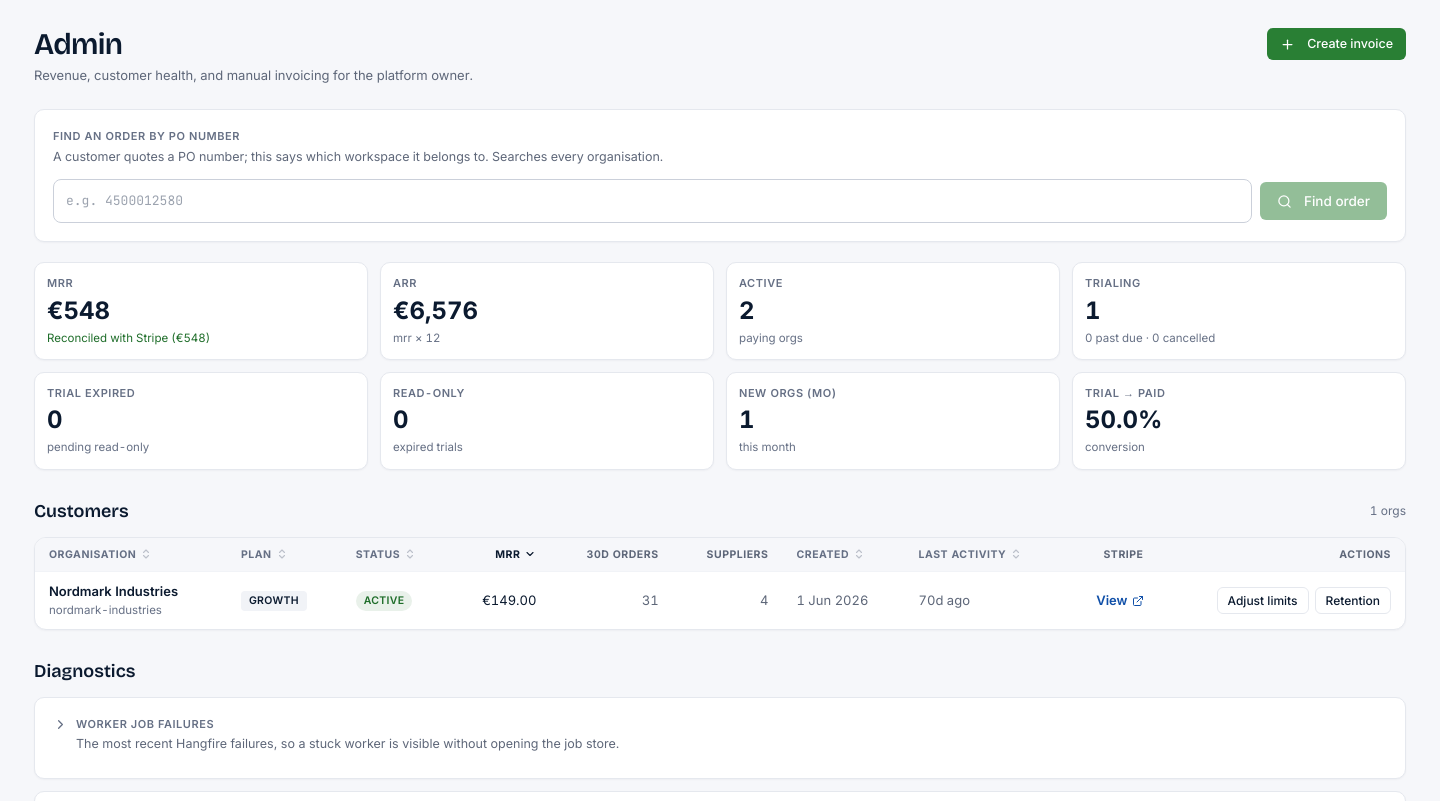
admin — a lookup result names the owning workspace › shows the org, order id, status and supplier for a match
Expected: the heading "Customers" is shown, [34,498,129,525]
Type "4500012580" into the search field named "po number". click: (652, 201)
box: [53,179,1252,223]
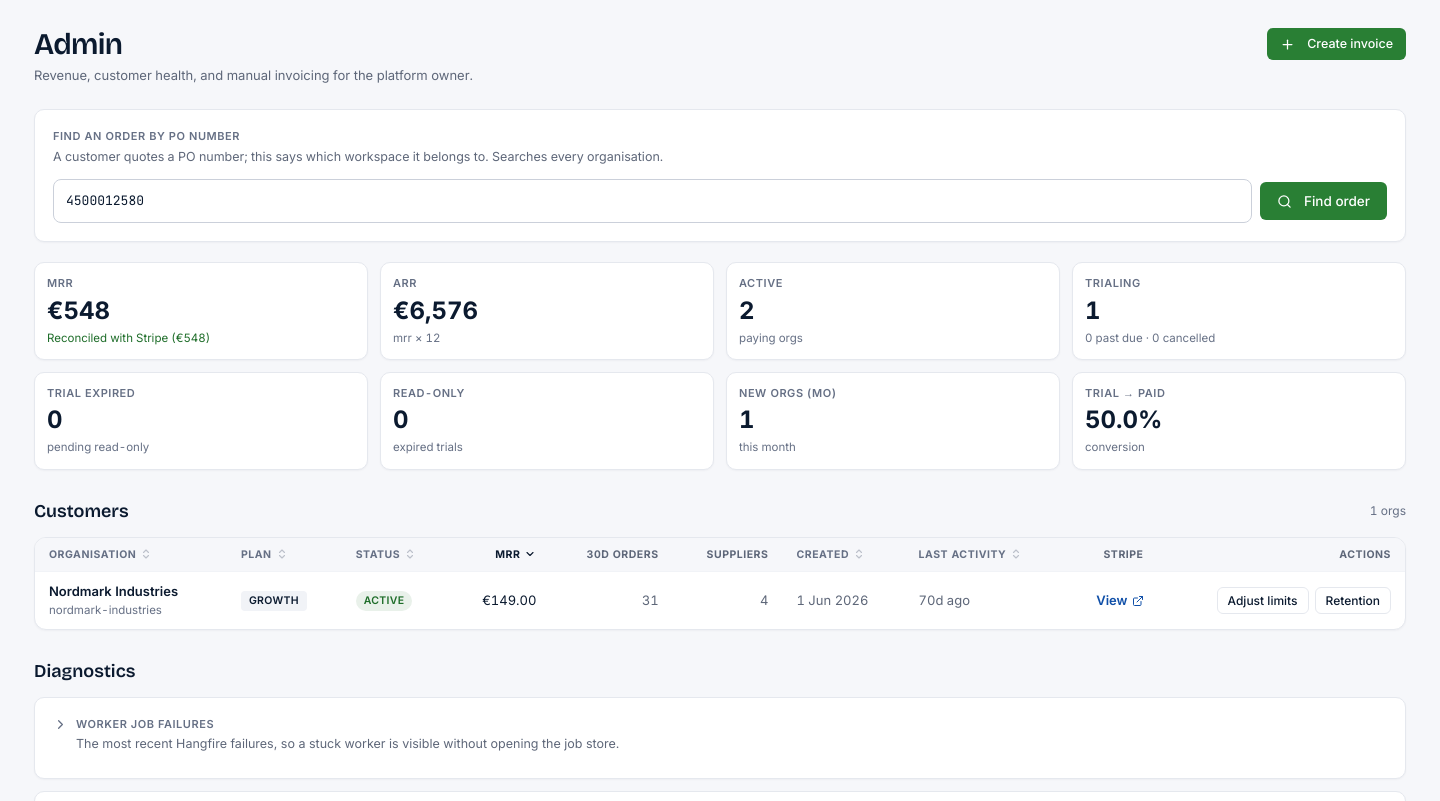
Click the button "Find order". click: (1324, 201)
box: [1260,182,1387,220]
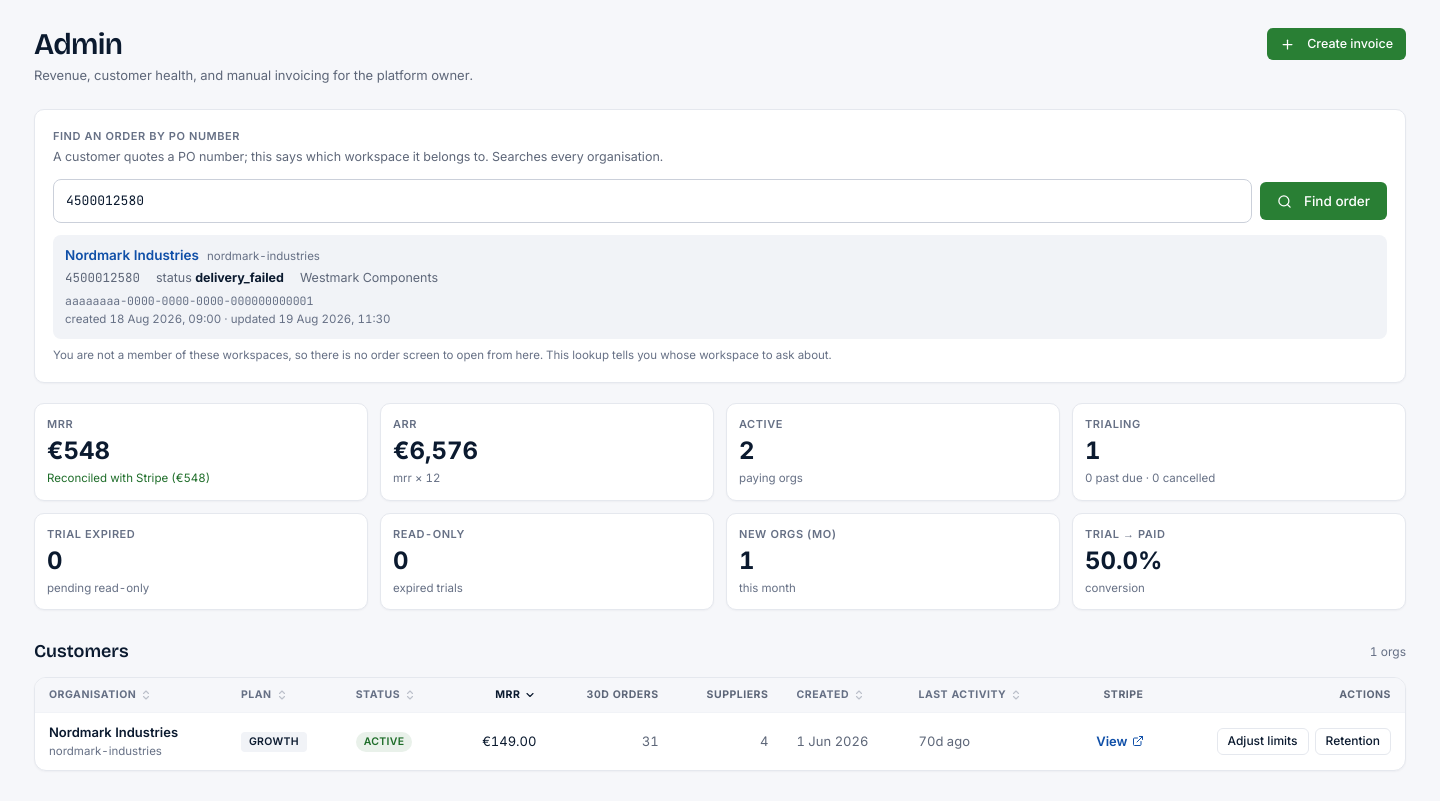
Now the link "Nordmark Industries" is shown, box [65,245,199,265]
Now the text "nordmark-industries" below "Find an order by PO number" is shown, box [207,249,320,263]
Now the text "aaaaaaaa-0000-0000-0000-000000000001" is shown, box [65,293,313,308]
